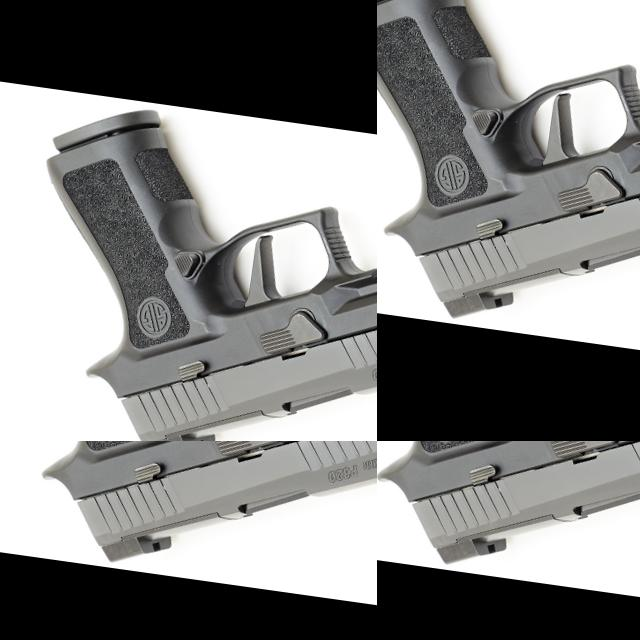handgun: (0, 80, 377, 441), (377, 441, 640, 640), (226, 451, 355, 572), (412, 153, 544, 215)
